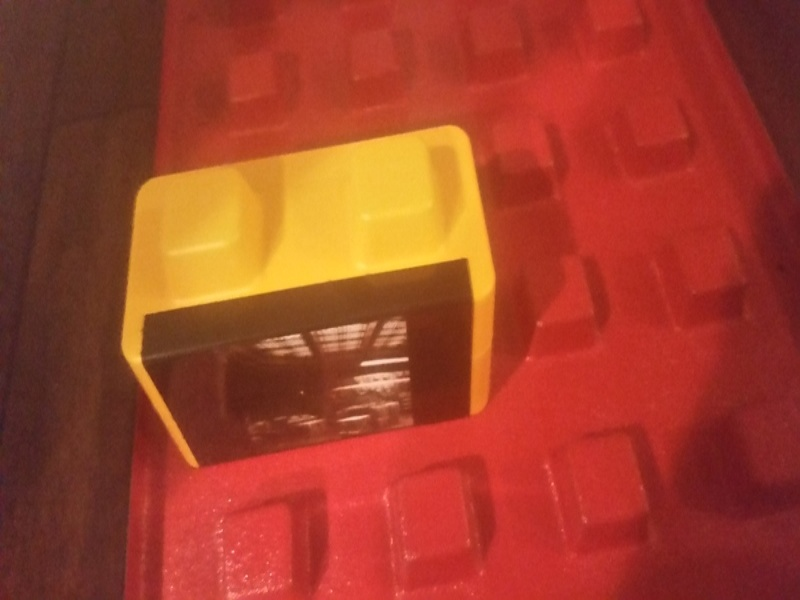Skystone: (112, 124, 499, 467)
